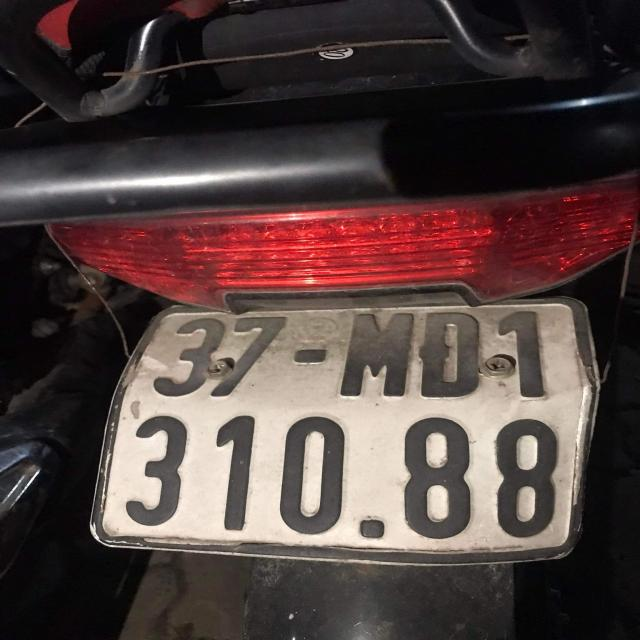0: (273, 411, 351, 536)
1: (205, 409, 260, 534), (494, 306, 547, 398)
3: (122, 411, 193, 530), (149, 306, 221, 399)
7: (211, 306, 288, 398)
8: (395, 412, 477, 542), (487, 414, 563, 540)
B: (416, 306, 484, 402)
